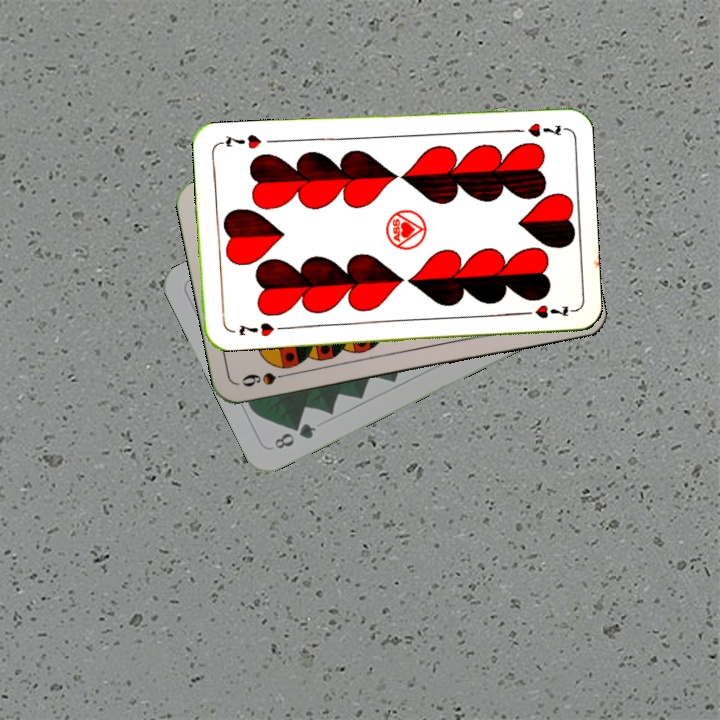G8: (269, 419, 319, 452)
H7: (507, 118, 566, 140), (235, 318, 277, 339)
S9: (237, 368, 296, 389)
